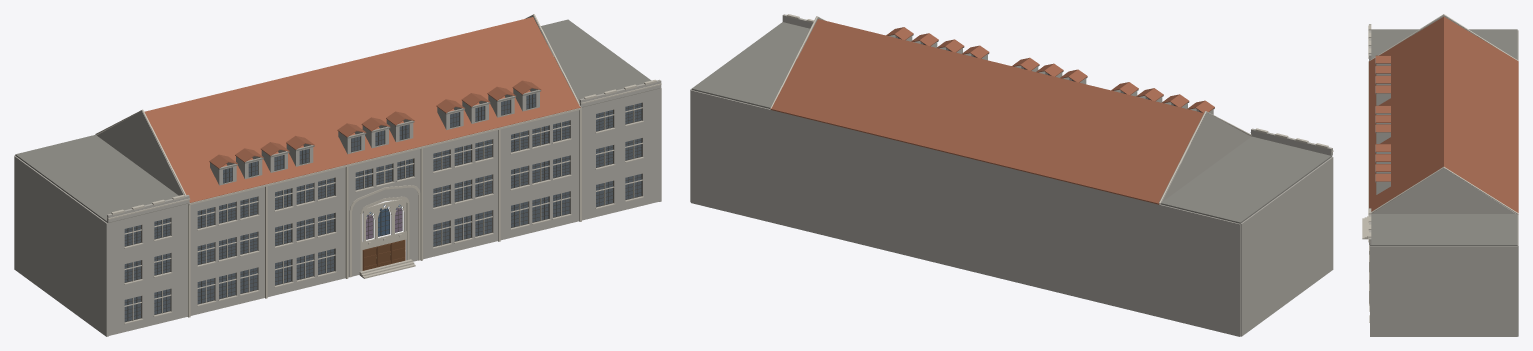
File: full-source.glb
The picture shows the model from 3 angles, left to right: view 1: azimuth 30°, elevation 25°; view 2: azimuth 150°, elevation 25°; view 3: azimuth 270°, elevation 25°; orthographic projection. The views are drawn at different scales.
Visible parts, largest first — view 1: 中西女中北楼景莲堂草坪立面与门厅; view 2: 中西女中北楼景莲堂草坪立面与门厅; view 3: 中西女中北楼景莲堂草坪立面与门厅.
Part boxes in pixels (bbox=[...]): 中西女中北楼景莲堂草坪立面与门厅: bbox=[14, 14, 661, 336]; 中西女中北楼景莲堂草坪立面与门厅: bbox=[690, 14, 1333, 336]; 中西女中北楼景莲堂草坪立面与门厅: bbox=[1362, 14, 1518, 336].
Bounding box in the file's own units: 59.03 × 17.63 × 18.06.
